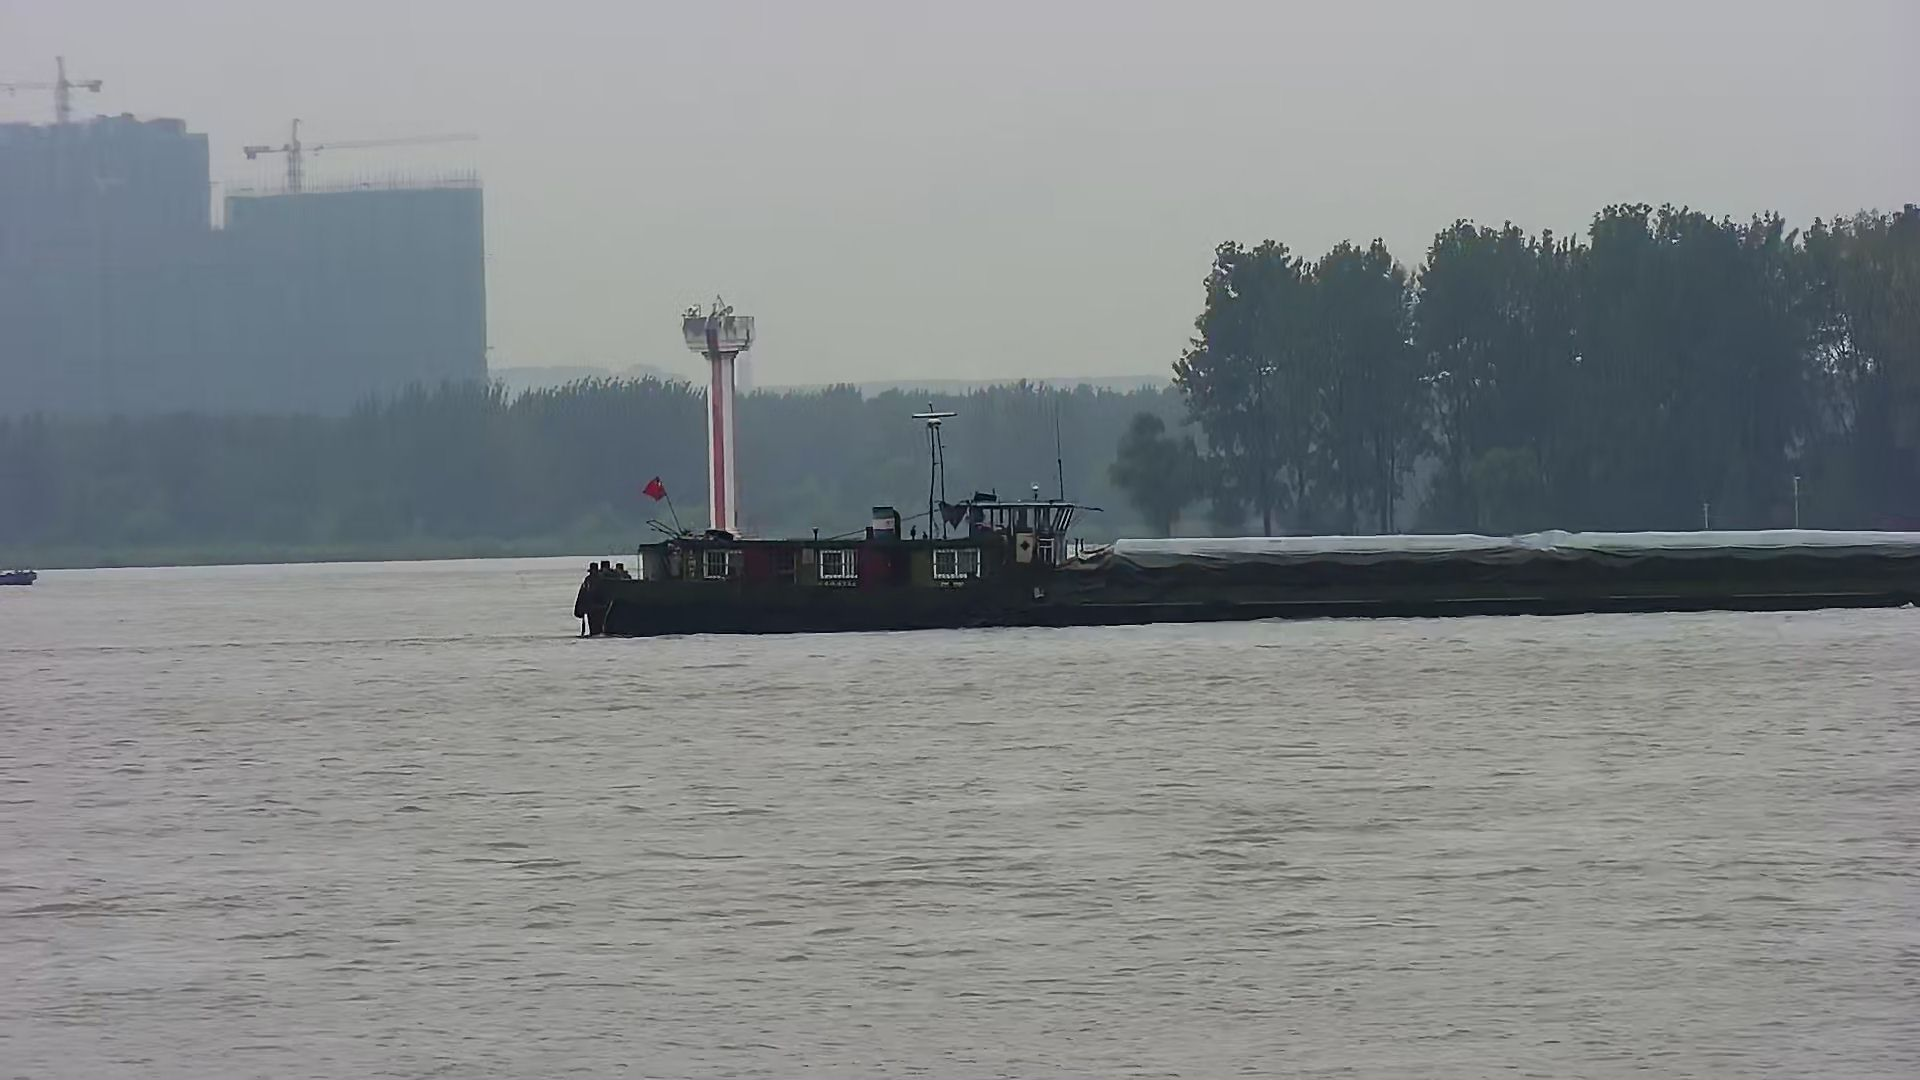boat: (1, 559, 37, 588)
platform: (659, 299, 771, 546)
ship: (571, 396, 1920, 641)
